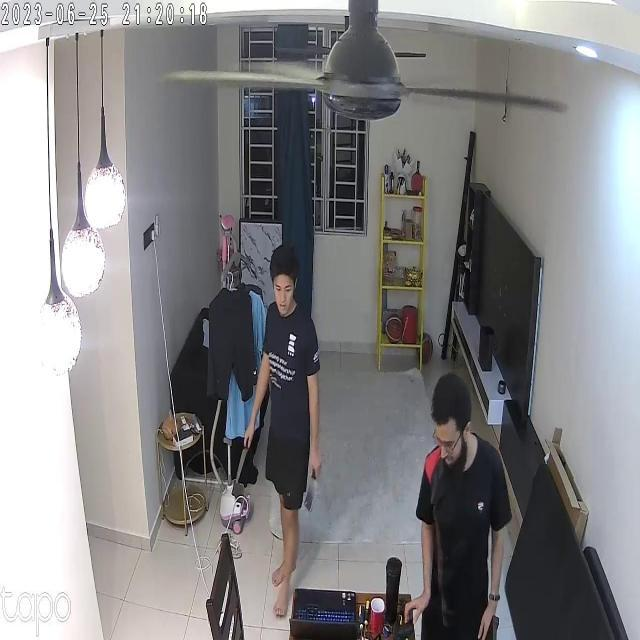Knife: (225, 421, 260, 488), (302, 462, 342, 520)
